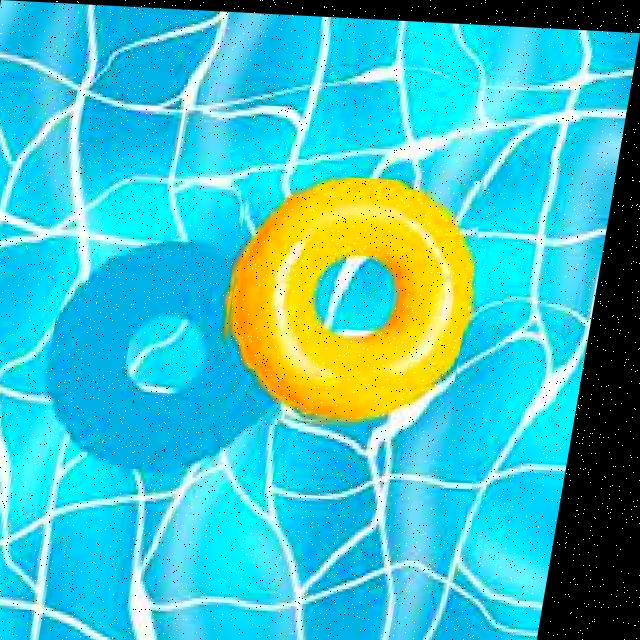lifesaver: (237, 175, 477, 419)
